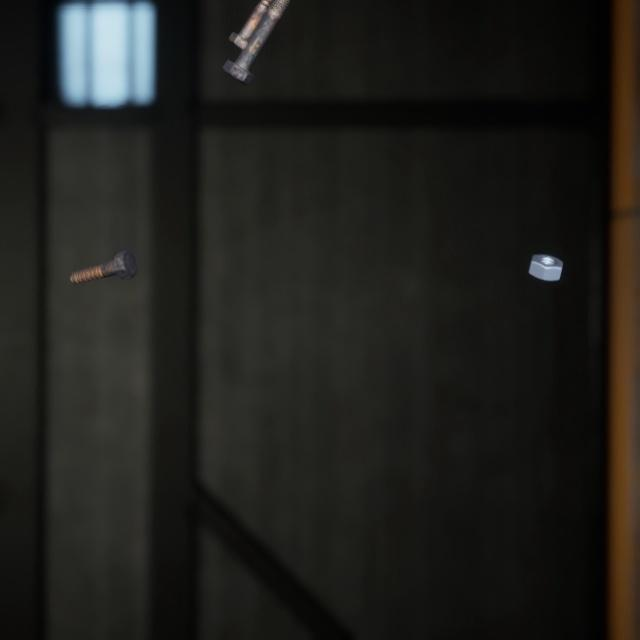bolt: (218, 0, 290, 80), (65, 229, 141, 272), (224, 0, 272, 46)
nut: (524, 233, 567, 268)
